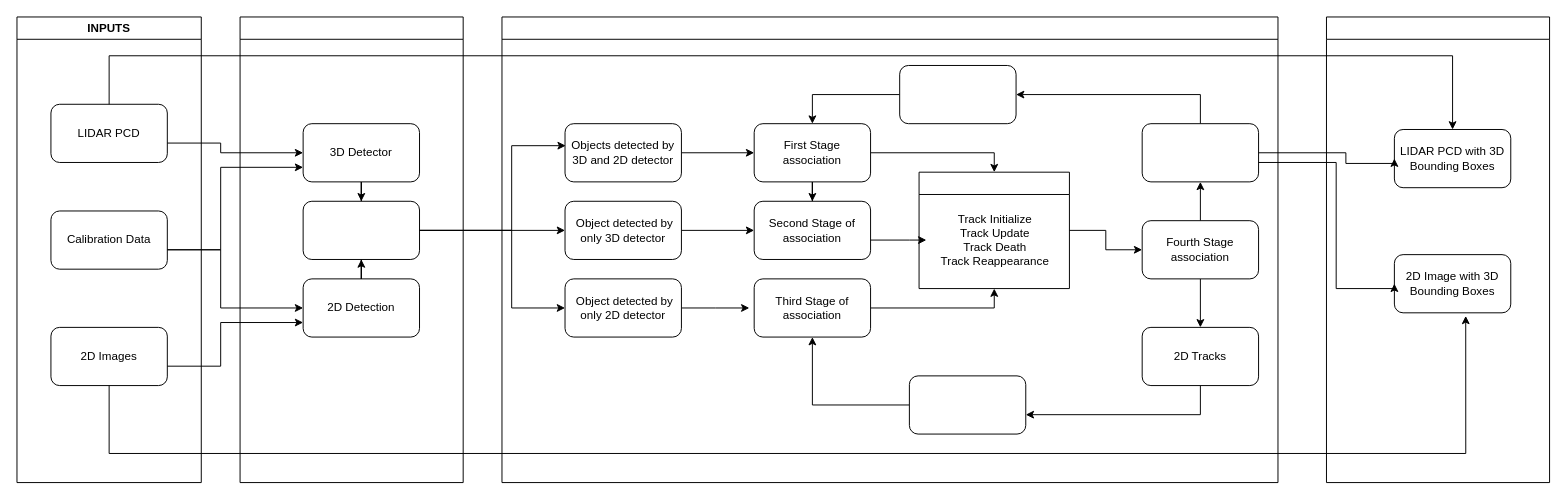
Some shapes in this 1567 by 500 pixel diagram are drawn without their labels. The box of each missing label's shape, as (x1, y1, x2, y2) in pixels:
3D Tracks: (1141, 123, 1259, 182)
Data Fusion: (302, 200, 420, 259)
OBJECT DETECTION STAGE: (239, 16, 463, 483)
OBJECT TRACKING AND ASSOCIATION: (501, 16, 1278, 483)
TRACK MANAGEMENT: (918, 171, 1069, 289)
UKF 2D: (908, 375, 1026, 434)
UKF 3D: (899, 65, 1016, 124)
VISUALIZATION: (1326, 16, 1550, 483)
